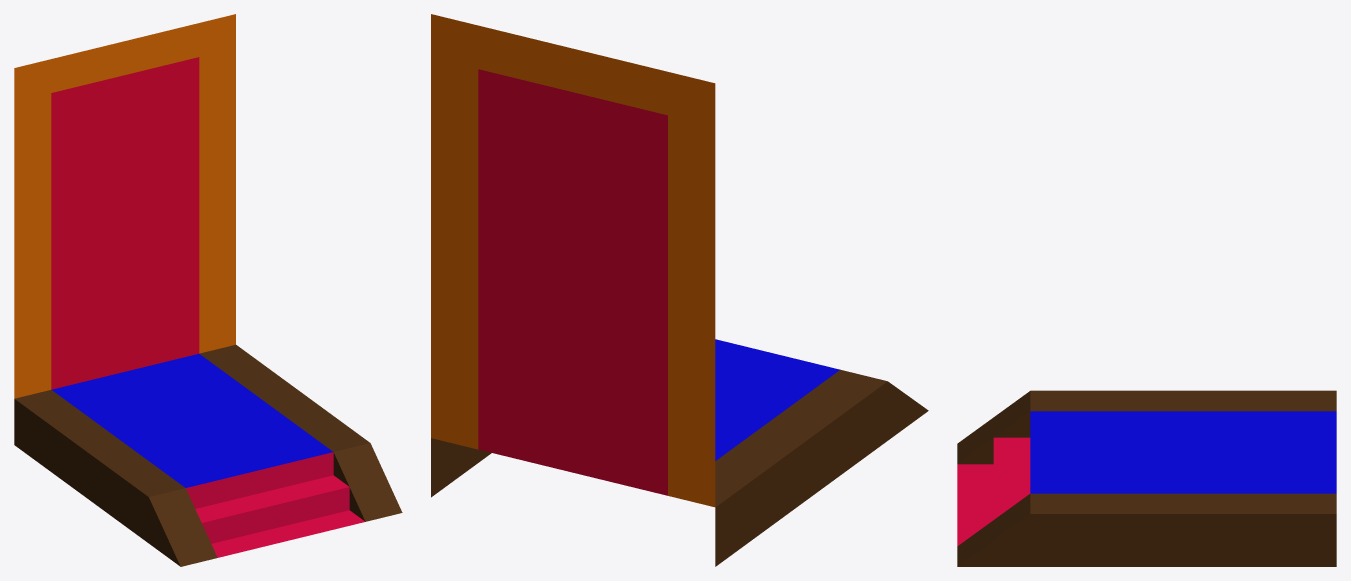
Rendered from Bottom Center 1.fbx.
3 views of the same model, side by side, from view 1: azimuth 30°, elevation 25°; view 2: azimuth 150°, elevation 25°; view 3: azimuth 270°, elevation 25° (orthographic). The views are drawn at different scales.
Parts seen in each view (by area): view 1: F_Bottom_Center; view 2: F_Bottom_Center; view 3: F_Bottom_Center.
Boxes of the visible parts, left/top/right/bottom form: F_Bottom_Center: left=14, top=14, right=402, bottom=566; F_Bottom_Center: left=431, top=14, right=928, bottom=566; F_Bottom_Center: left=957, top=390, right=1336, bottom=566.
Bounding box in the file's own units: 400 × 650 × 520.
